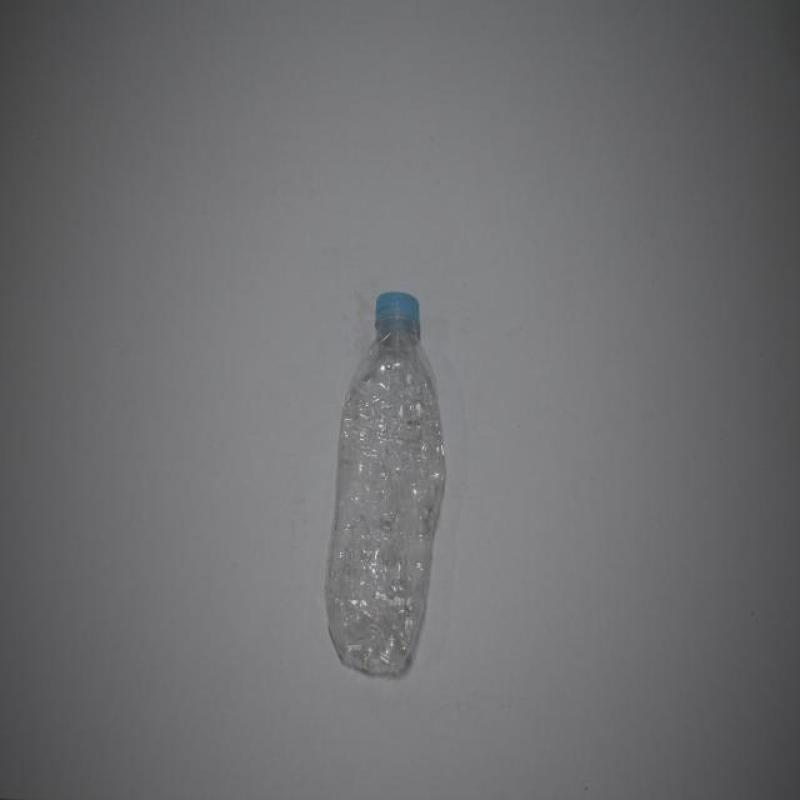botella: (324, 290, 444, 680)
